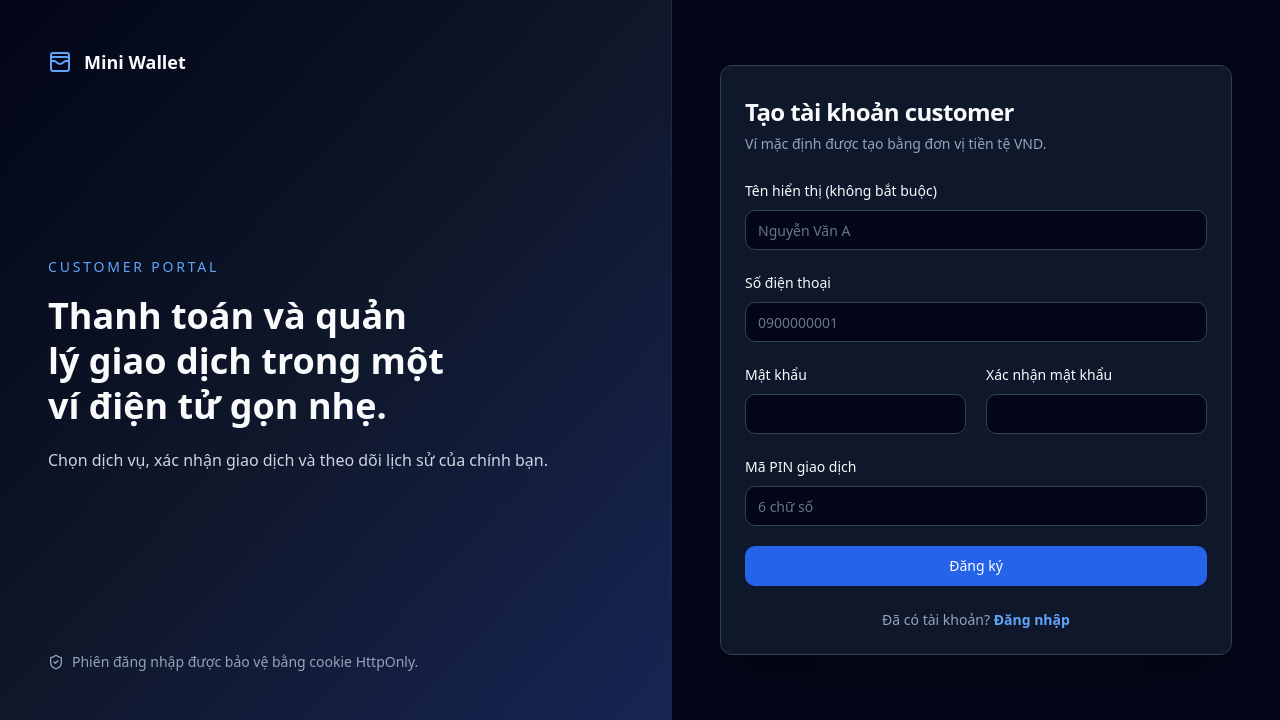
Test: customer auth routing › validates registration locally and does not submit invalid values
expect the heading "Tạo tài khoản customer" is shown: met, box [745,95,1014,128]
Type "123" into the field labelled "Số điện thoại".
click(976, 322); type("123")  # box [745,302,1207,342]
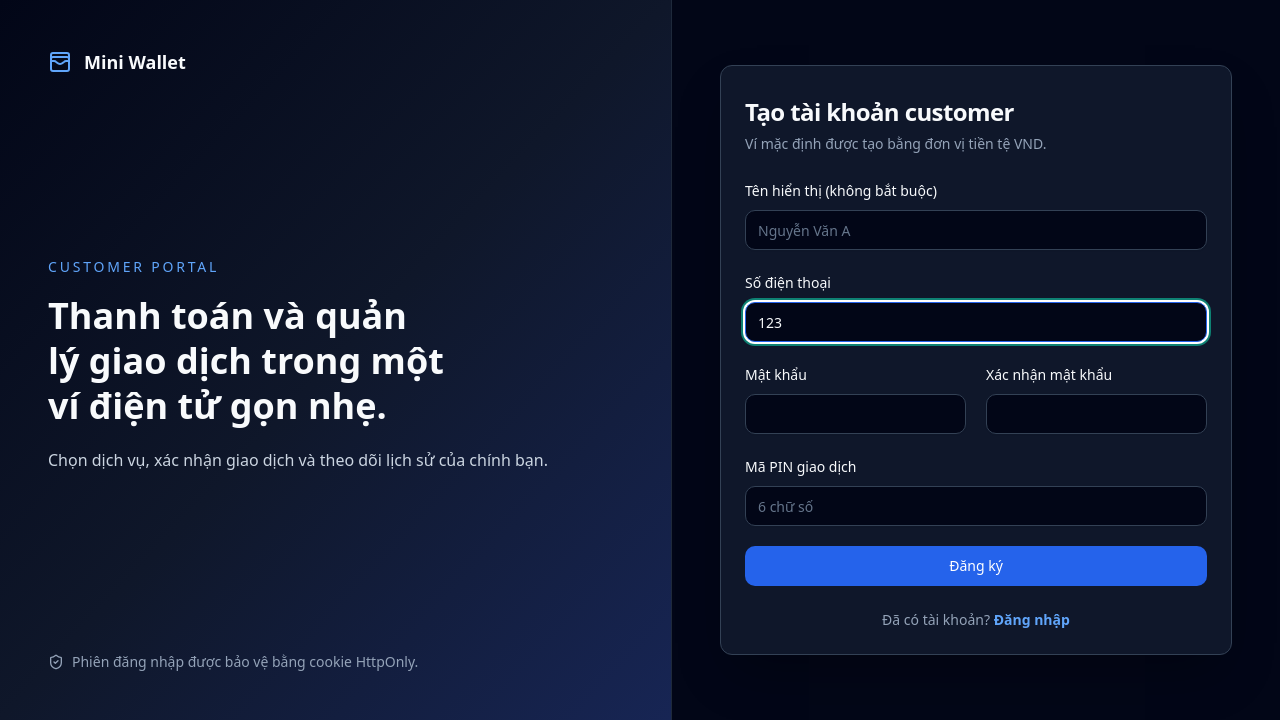
Type "abcdefgh" into the password field labelled "Mật khẩu".
click(856, 414); type("abcdefgh")  # box [745,394,966,434]
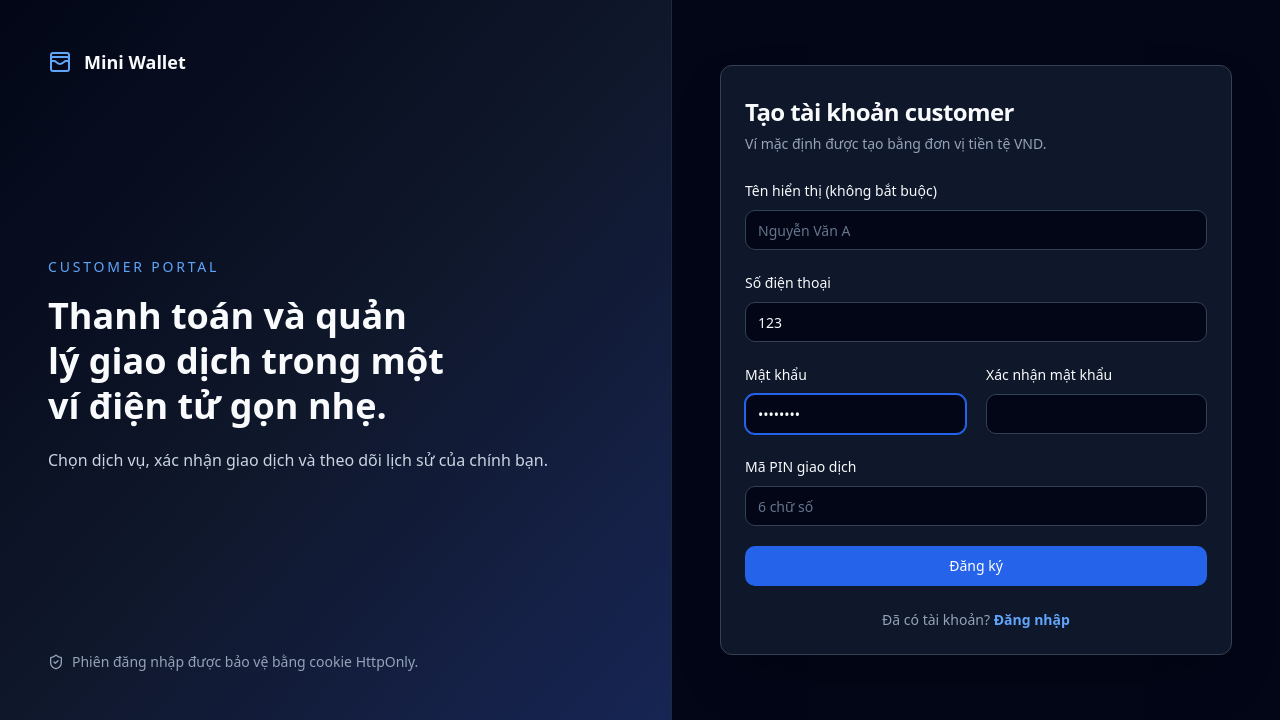
Type "different" into the password field labelled "Xác nhận mật khẩu".
click(1096, 414); type("different")  # box [986,394,1207,434]
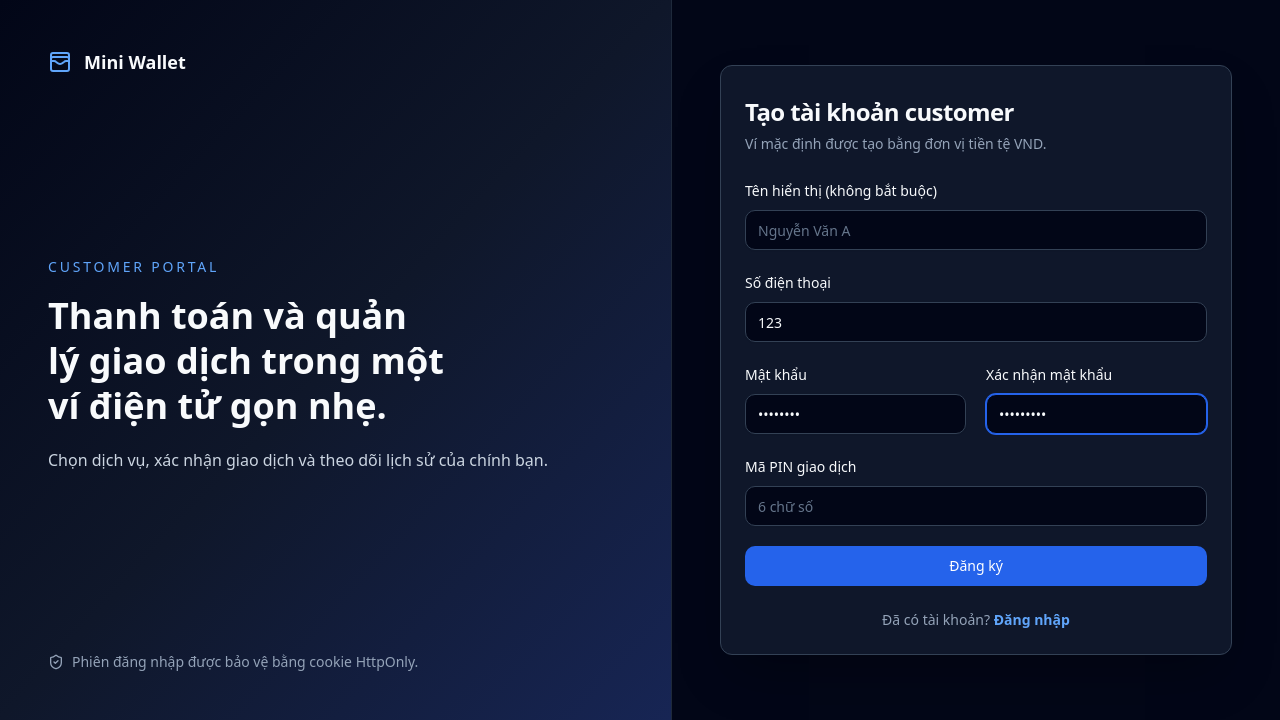
Type "12" into the password field labelled "Mã PIN giao dịch".
click(976, 506); type("12")  # box [745,486,1207,526]
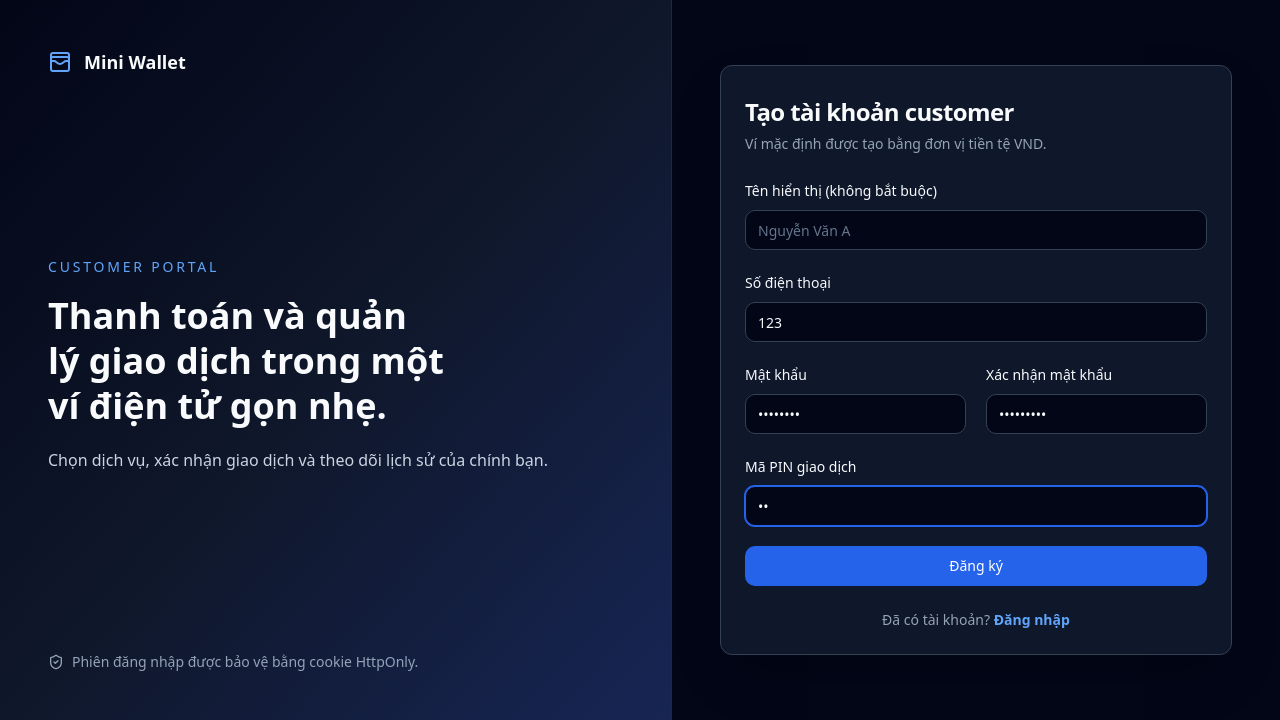
Click the button "Đăng ký".
click(976, 566)  # box [745,546,1207,586]
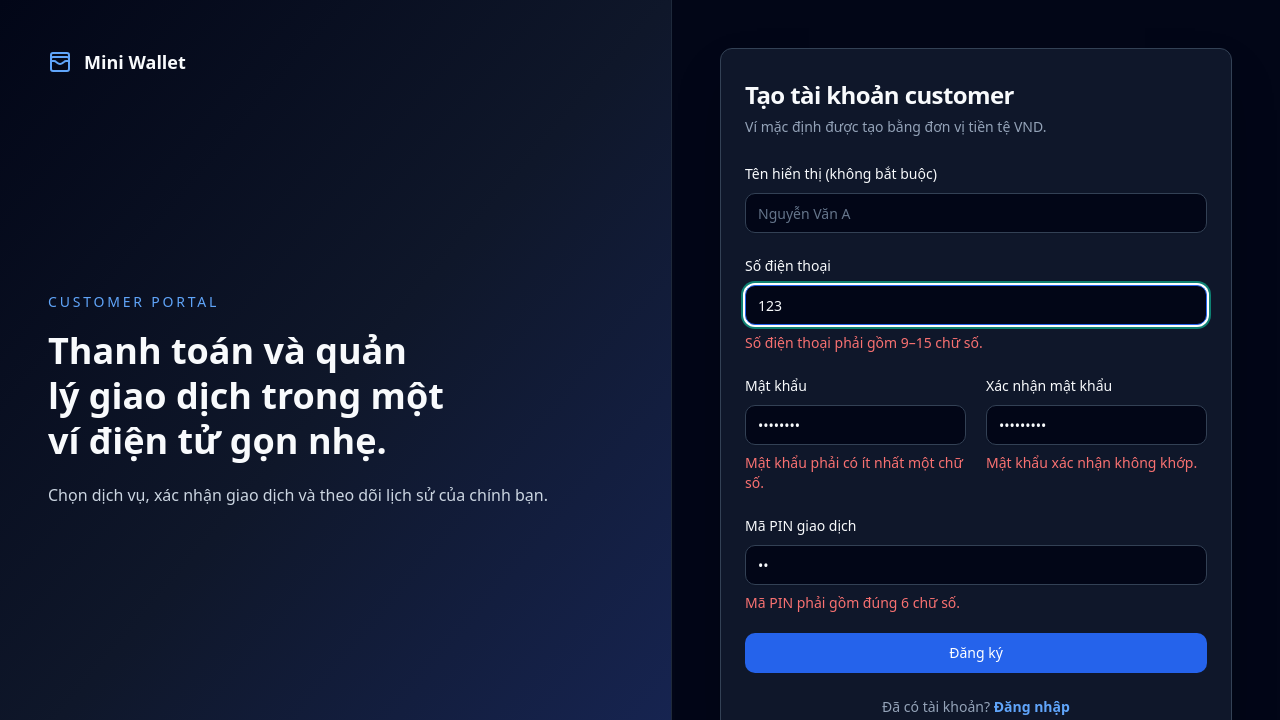
expect the text "Số điện thoại phải gồm 9–15 chữ số." is shown: met, box [745,333,983,352]
expect the text "Mật khẩu phải có ít nhất một chữ số." is shown: met, box [745,453,966,493]
expect the text "Mật khẩu xác nhận không khớp." is shown: met, box [986,453,1207,473]
